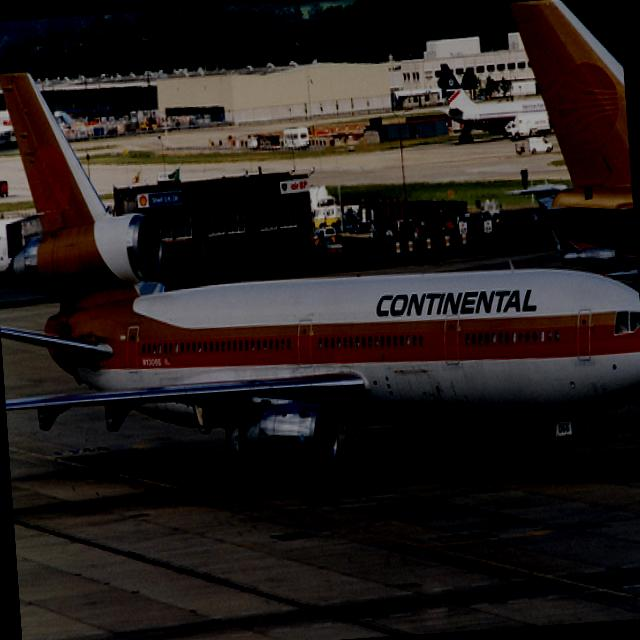Vehicle: (510, 110, 550, 138), (282, 125, 310, 149), (527, 134, 554, 154)
